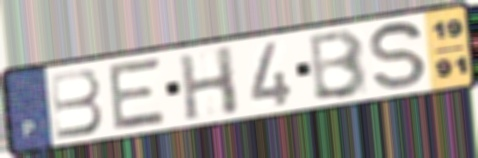4: (249, 39, 295, 108)
B: (308, 26, 371, 103), (47, 66, 107, 141)
E: (107, 55, 168, 133)
H: (175, 43, 242, 123)
S: (367, 20, 430, 91)
